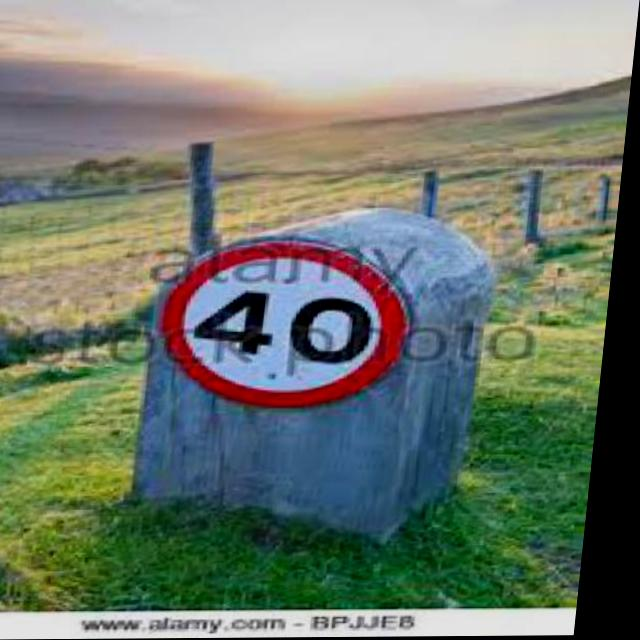limit40: (158, 235, 427, 413)
